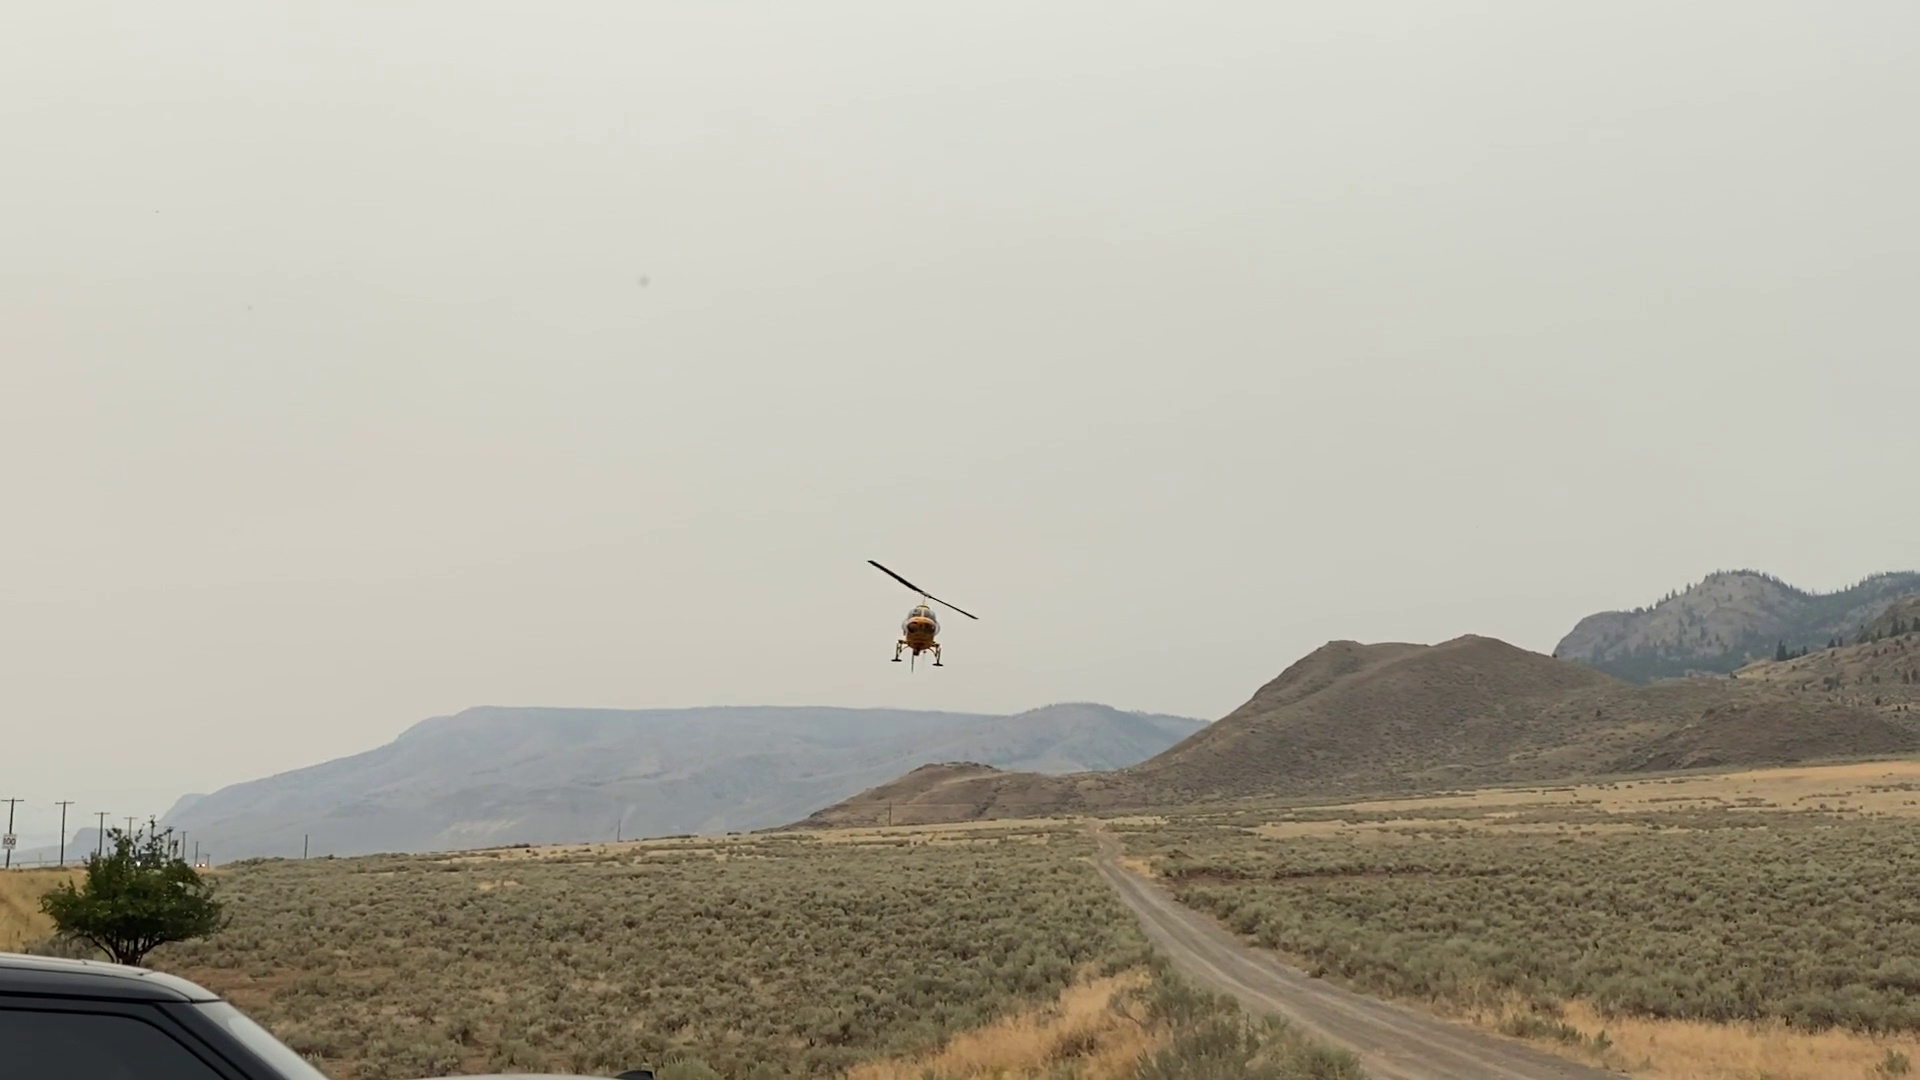heli: (865, 556, 977, 670)
